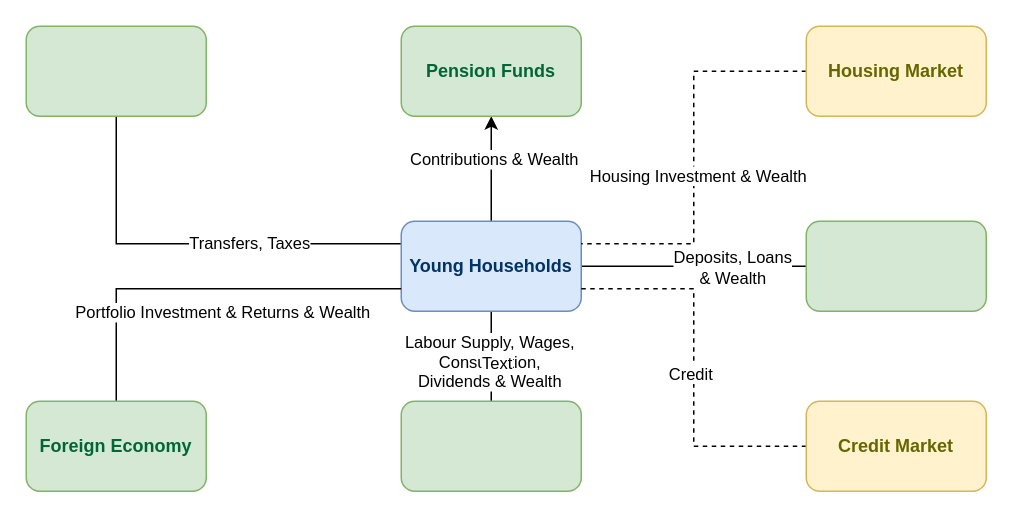
This 1013x518 diagram has some shape labels left out. Each missing label, with the box of its shape:
Banks: (805, 220, 986, 311)
Firms: (400, 400, 581, 491)
Government: (25, 25, 206, 116)
